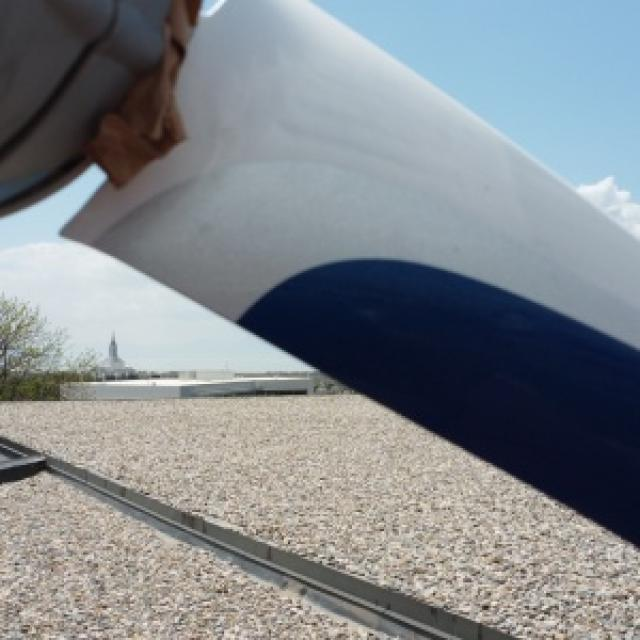healthy: (0, 474, 371, 638)
